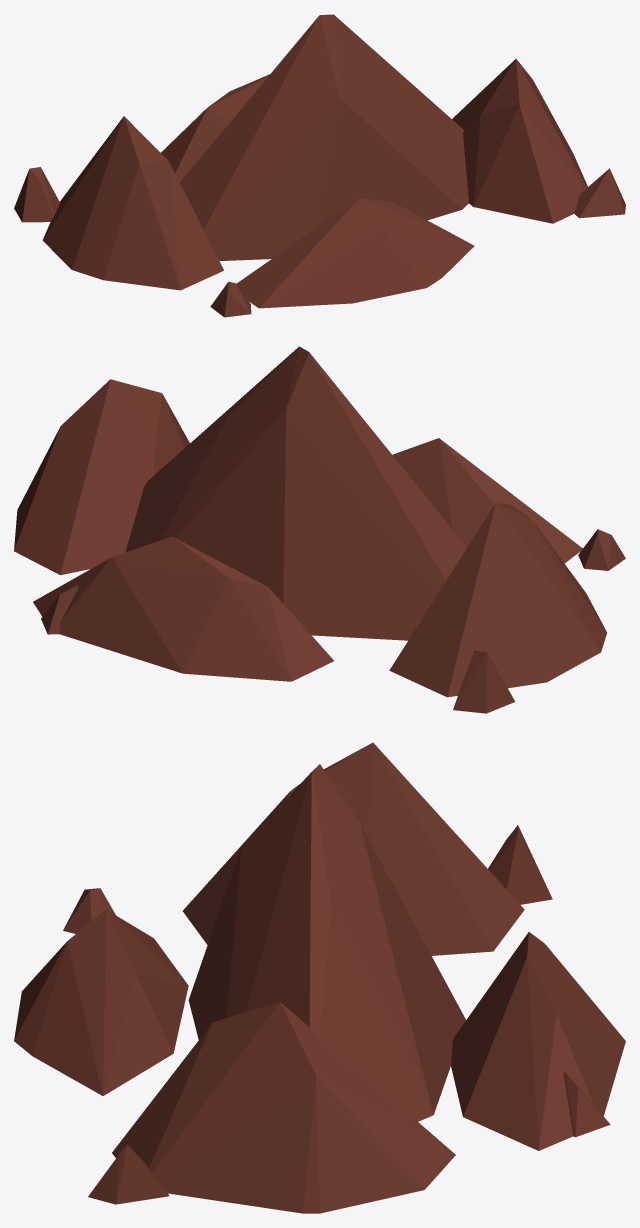
File: SN_Ore_Pile.glb
3 renders of one model, top to bottom at view 1: azimuth 30°, elevation 25°; view 2: azimuth 150°, elevation 25°; view 3: azimuth 270°, elevation 25°, orthographic. The views are drawn at different scales.
Visible parts, largest first — view 1: SN_Ore_Pile; view 2: SN_Ore_Pile; view 3: SN_Ore_Pile.
Part boxes in pixels (x1,y1,x2,y2): SN_Ore_Pile: (14, 14, 625, 317); SN_Ore_Pile: (14, 346, 625, 713); SN_Ore_Pile: (14, 742, 625, 1213).
Size of the model in its own units: 4 by 1.5 by 3.
